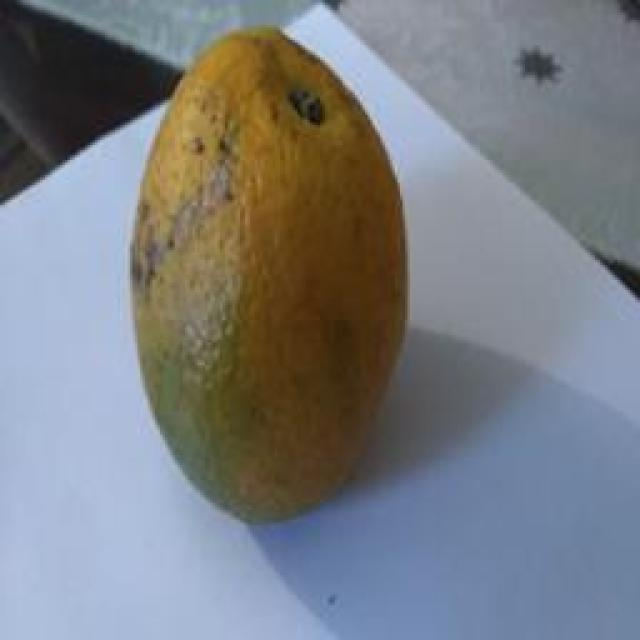Rotten_Orange: (108, 27, 432, 521)
